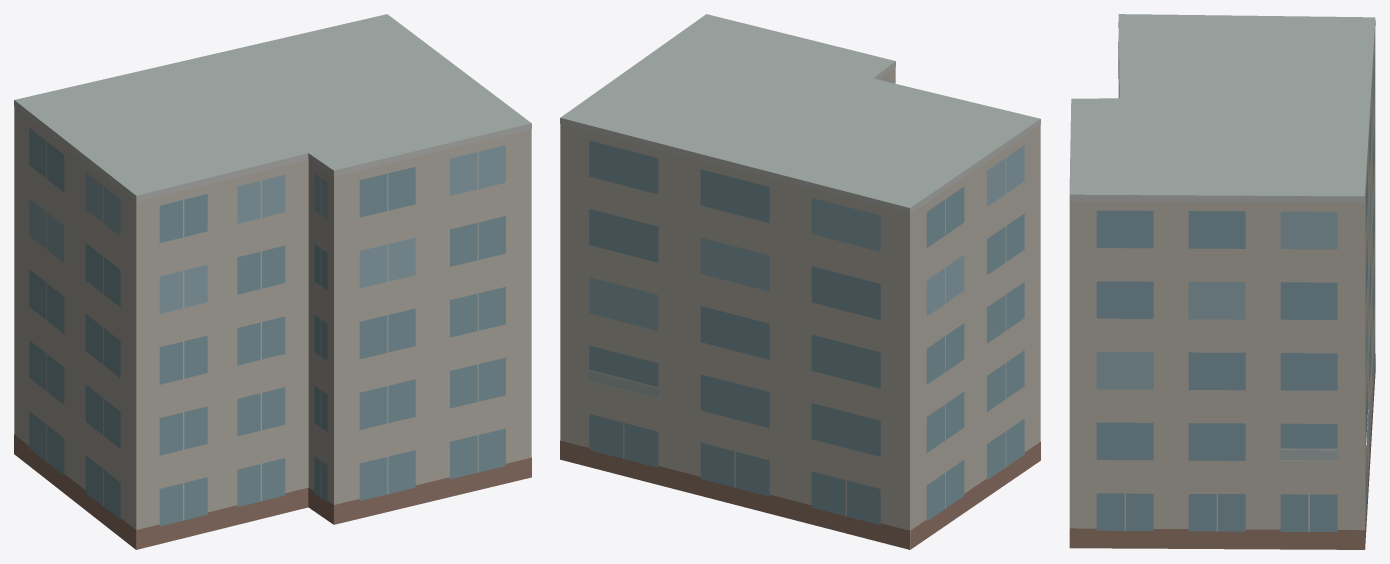
Rendered from survey-upis-32914788.glb.
3 renders of one model, left to right at view 1: azimuth 30°, elevation 25°; view 2: azimuth 150°, elevation 25°; view 3: azimuth 270°, elevation 25°, orthographic. The views are drawn at different scales.
Visible parts, largest first — view 1: survey-upis-32914788.tmp; view 2: survey-upis-32914788.tmp; view 3: survey-upis-32914788.tmp.
Part boxes in pixels (<box>): survey-upis-32914788.tmp: <box>14,14,531,549</box>; survey-upis-32914788.tmp: <box>560,14,1040,549</box>; survey-upis-32914788.tmp: <box>1069,14,1375,549</box>.
Size of the model in its own units: 15.42 by 13.9 by 10.92.
